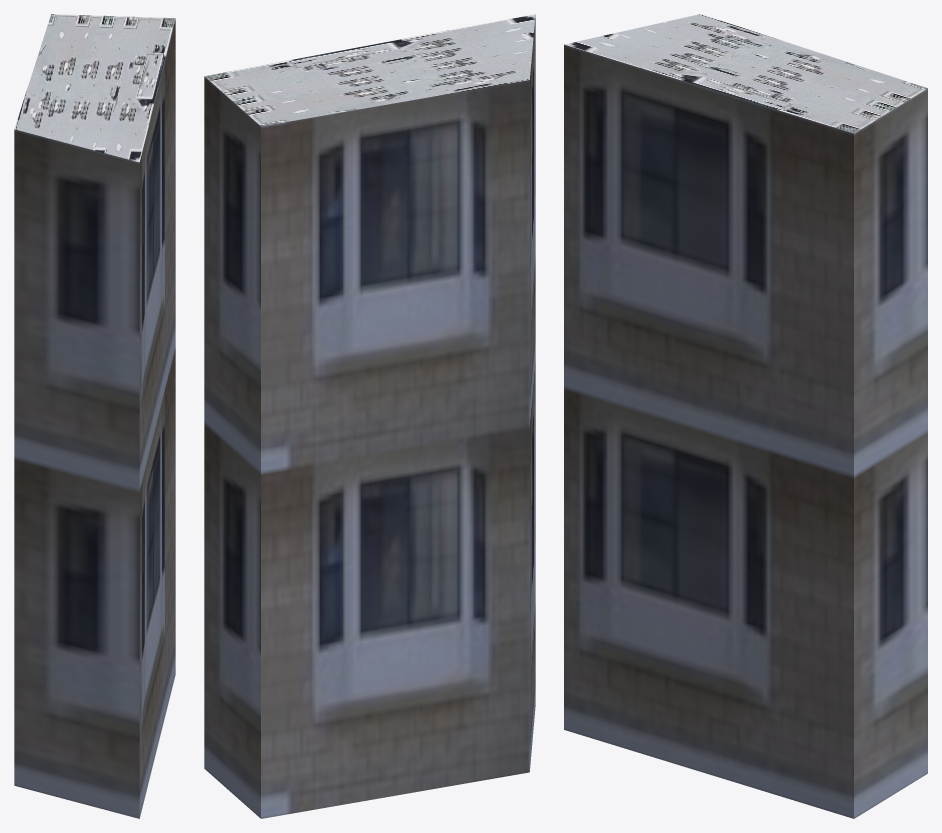
Rendered from ResTex__3127.fbx.
3 views of the same model, side by side, from view 1: azimuth 30°, elevation 25°; view 2: azimuth 150°, elevation 25°; view 3: azimuth 270°, elevation 25° (orthographic). The views are drawn at different scales.
Parts seen in each view (by area): view 1: CityEngineMaterial_3_m, CityEngineMaterial_4_m; view 2: CityEngineMaterial_3_m, CityEngineMaterial_4_m; view 3: CityEngineMaterial_3_m, CityEngineMaterial_4_m.
Part boxes in pixels (box(x1,y1,x2,y2)): CityEngineMaterial_3_m: box(14, 19, 175, 818); CityEngineMaterial_4_m: box(14, 14, 175, 162); CityEngineMaterial_3_m: box(204, 15, 535, 818); CityEngineMaterial_4_m: box(205, 14, 535, 126); CityEngineMaterial_3_m: box(564, 44, 927, 818); CityEngineMaterial_4_m: box(564, 14, 927, 133).
Bounding box in the file's own units: 2.25 × 6 × 2.89.
Materials: 2 (2 with a texture image).
